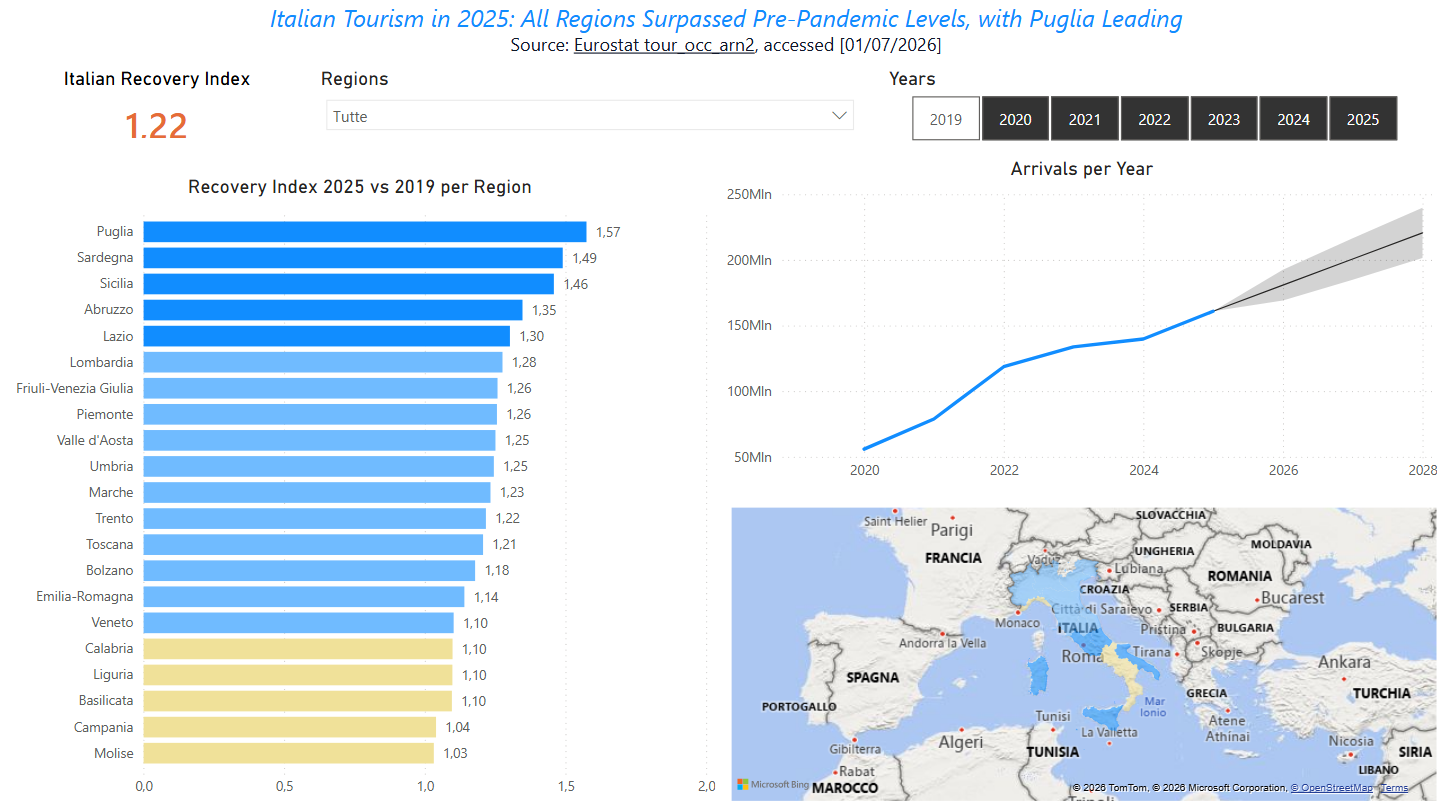

This screenshot's page, from the dashboard's own definition file:
{"tool":"powerbi","page":{"name":"Main","canvas":[1280,720],"ordinal":0},"visuals":[{"type":"textbox","box":[9.8,0,1270.2,84.5],"z":0},{"type":"clusteredBarChart","title":"Recovery Index 2025 vs 2019 per Region","fields":{"Category":["fct_yearly_nights.region_name"],"Y":["fct_yearly_nights.Recovery_Index"]},"box":[0,159.5,640,560.2],"z":1000},{"type":"lineChart","title":"Nights per Year","fields":{"Category":["fct_yearly_nights.year"],"Y":["Sum(fct_yearly_nights.nights)"]},"box":[640,144,640,295.7],"z":2000},{"type":"filledMap","fields":{"Category":["dim_region.region_name"]},"box":[644.9,449.4,635.1,270.4],"z":3000},{"type":"slicer","title":"Regions","fields":{"Values":["dim_region.region_name"]},"box":[280.2,63.8,487.7,80.7],"z":4000},{"type":"slicer","title":"Years","fields":{"Values":["fct_yearly_nights.year"]},"box":[783.8,63.8,479.7,71.8],"z":5000},{"type":"cardVisual","title":"Italian Recovery Index","fields":{"Data":["fct_yearly_nights.Italy Recovery Index (Fixed)"]},"box":[0,63.8,280.2,80.7],"z":6000}]}

Visuals, with their boxes in screenshot pixels (x1, y1, x2, y2), scaled from the page's 1280x720 canvas onto the 1440x807 screenshot:
textbox: rect(11, 0, 1439, 95)
"Recovery Index 2025 vs 2019 per Region" clusteredBarChart: rect(0, 179, 720, 806)
"Nights per Year" lineChart: rect(720, 161, 1439, 493)
filledMap - dim_region.region_name: rect(726, 504, 1439, 806)
"Regions" slicer: rect(315, 72, 864, 162)
"Years" slicer: rect(882, 72, 1421, 152)
"Italian Recovery Index" cardVisual: rect(0, 72, 315, 162)
